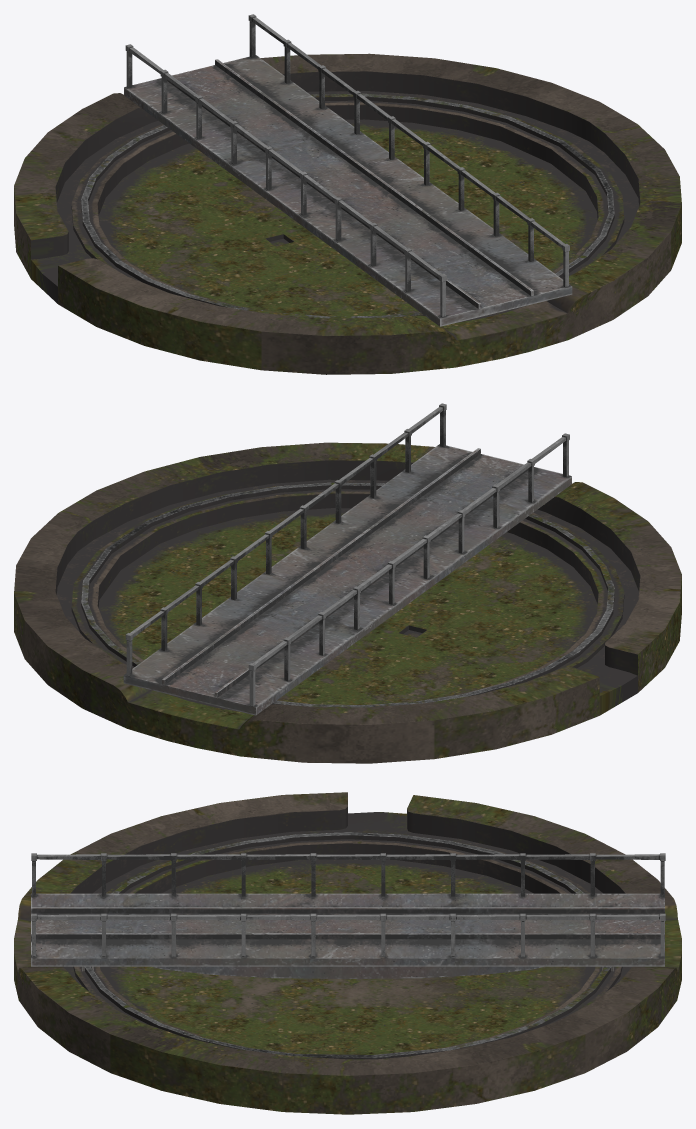
Rendered from Turning point.fbx.
3 views of the same model, one above another, from view 1: azimuth 30°, elevation 25°; view 2: azimuth 150°, elevation 25°; view 3: azimuth 270°, elevation 25° (orthographic).
Parts seen in each view (by area): view 1: Cylinder, Cylinder.003; view 2: Cylinder, Cylinder.003; view 3: Cylinder, Cylinder.003.
Boxes of the visible parts, <box> form: Cylinder: <box>14,53,681,374</box>; Cylinder.003: <box>124,14,572,326</box>; Cylinder: <box>14,442,681,763</box>; Cylinder.003: <box>123,403,571,715</box>; Cylinder: <box>14,792,681,1114</box>; Cylinder.003: <box>31,853,665,978</box>.
Bounding box in the file's own units: 2087 × 303 × 2077.
